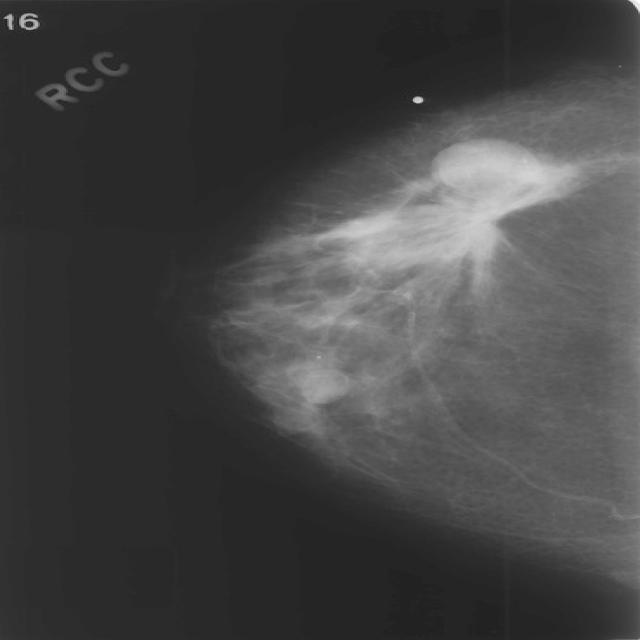tumour: (409, 137, 569, 243)
